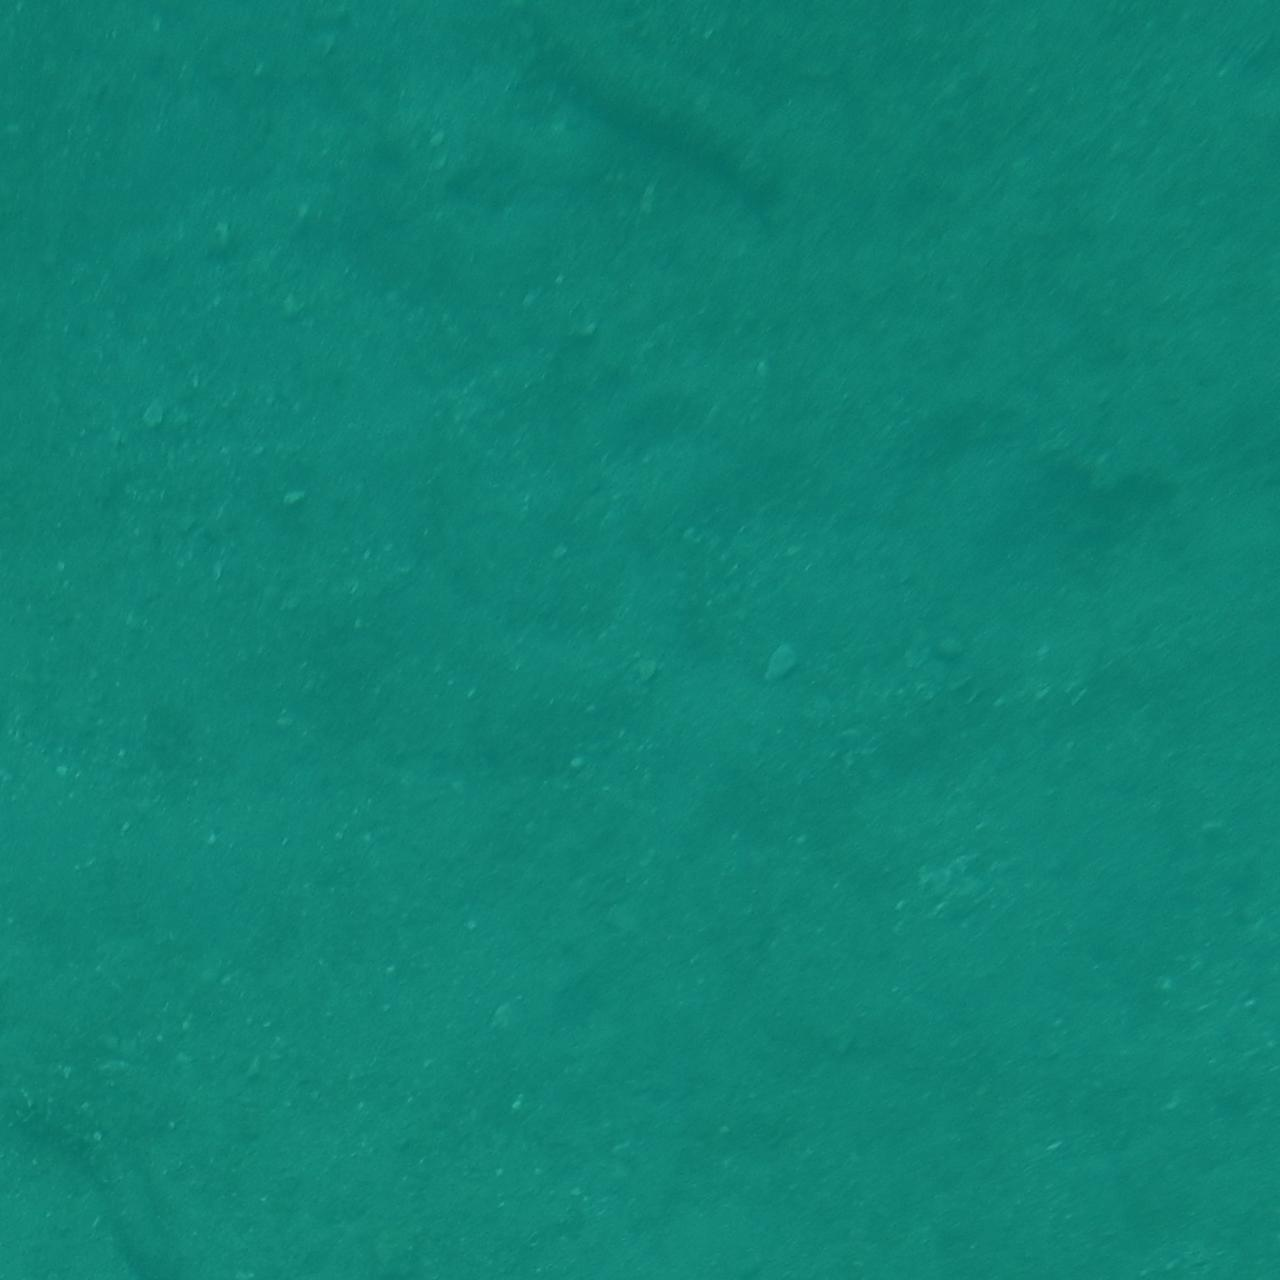Holothuria tubulosa: (482, 1, 798, 205)
